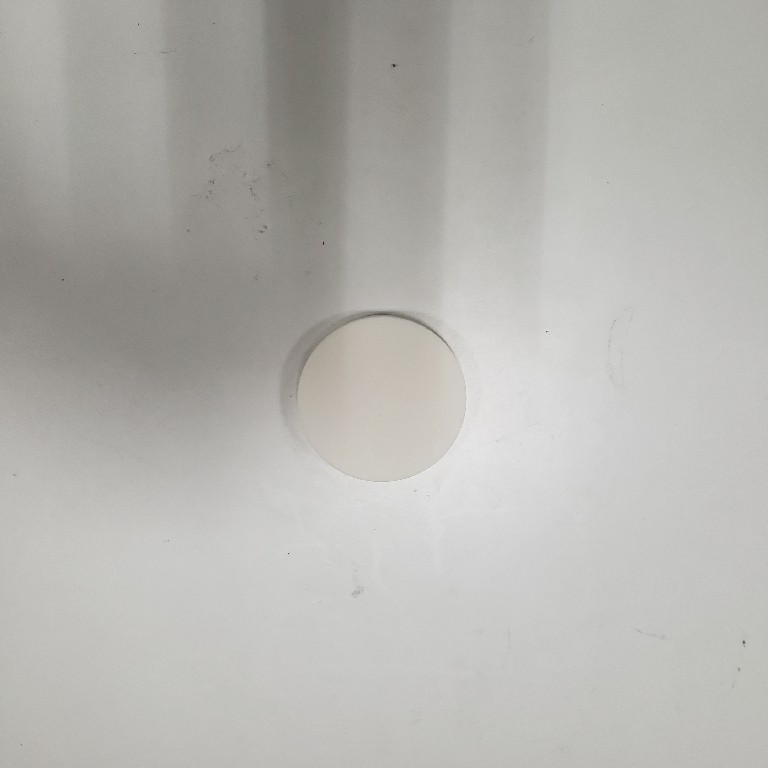ceramics: (290, 307, 470, 491)
